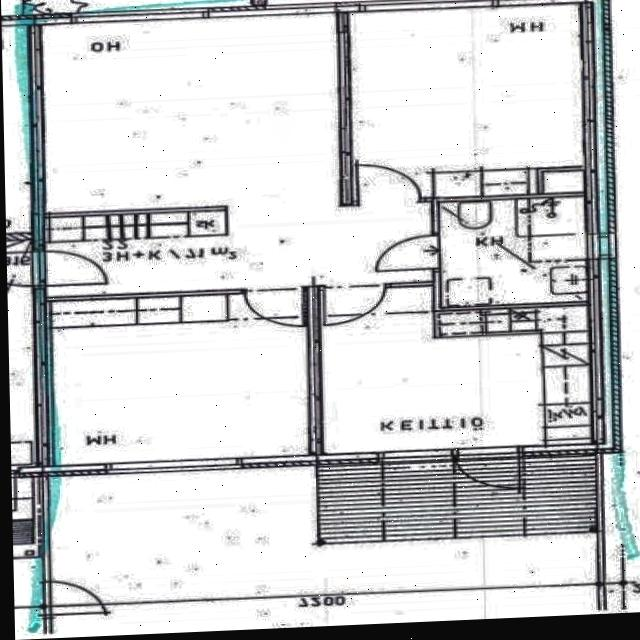room: (345, 3, 588, 202), (51, 292, 304, 463), (319, 282, 543, 453), (439, 198, 584, 306)
